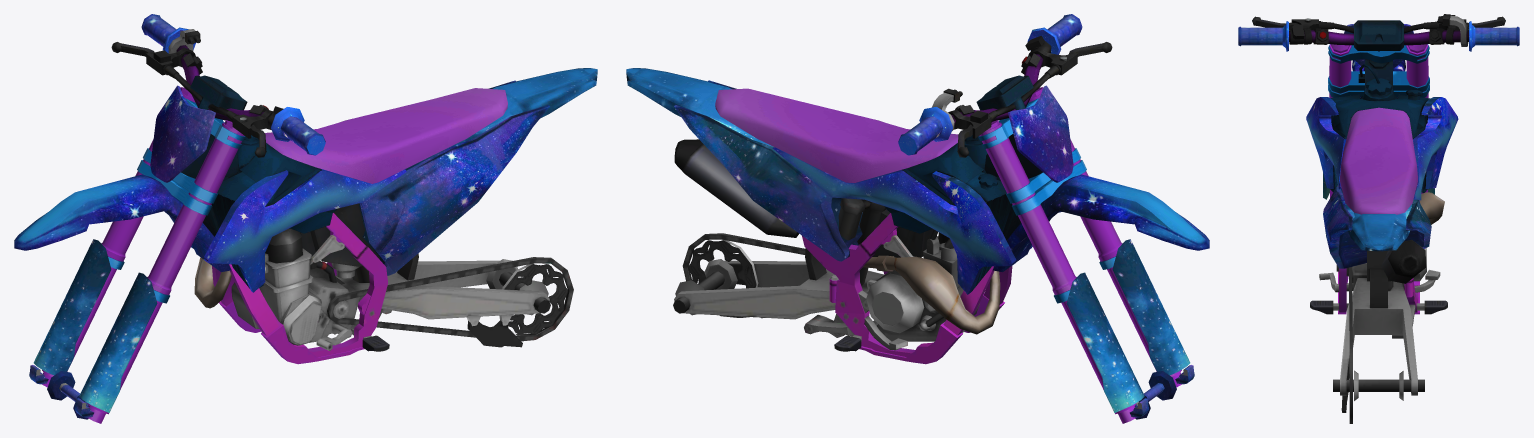
Rendered from Body_KTM.fbx.
3 views of the same model, side by side, from view 1: azimuth 30°, elevation 25°; view 2: azimuth 150°, elevation 25°; view 3: azimuth 270°, elevation 25° (orthographic). The views are drawn at different scales.
Parts seen in each view (by area): view 1: ktm_engine, ktm_rearfork, ktm_frontfork; view 2: ktm_engine, ktm_frontfork, ktm_rearfork; view 3: ktm_engine, ktm_rearfork.
Part boxes in pixels (bbox=[...]): ktm_engine: bbox=[14, 14, 597, 364]; ktm_rearfork: bbox=[327, 257, 573, 347]; ktm_frontfork: bbox=[29, 239, 162, 423]; ktm_engine: bbox=[626, 14, 1209, 364]; ktm_frontfork: bbox=[1061, 239, 1194, 423]; ktm_rearfork: bbox=[673, 233, 884, 319]; ktm_engine: bbox=[1238, 14, 1519, 338]; ktm_rearfork: bbox=[1333, 267, 1424, 423].
Bounding box in the file's own units: 159 × 86.9 × 77.75.
